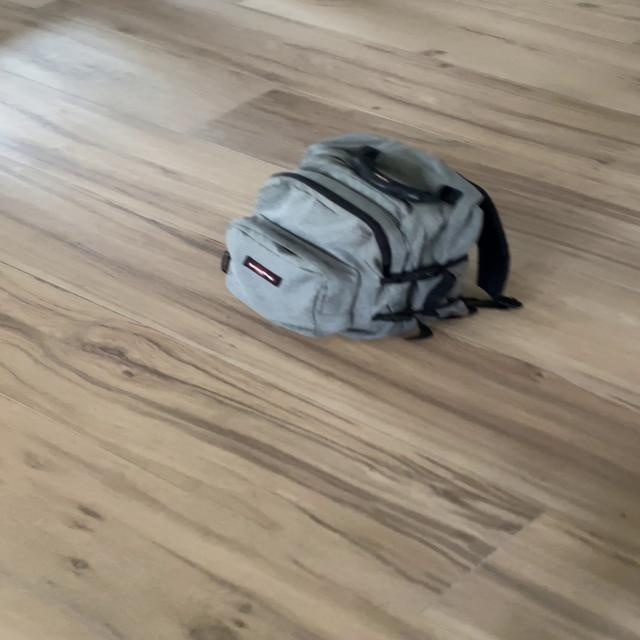backpack: (205, 128, 521, 345)
